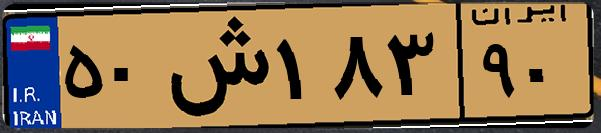0: (525, 38, 570, 115), (110, 28, 158, 98)
1: (270, 28, 330, 110)
3: (385, 28, 445, 110)
5: (57, 26, 110, 100)
8: (330, 28, 385, 110)
9: (475, 38, 525, 113)
ش: (158, 12, 270, 120)
